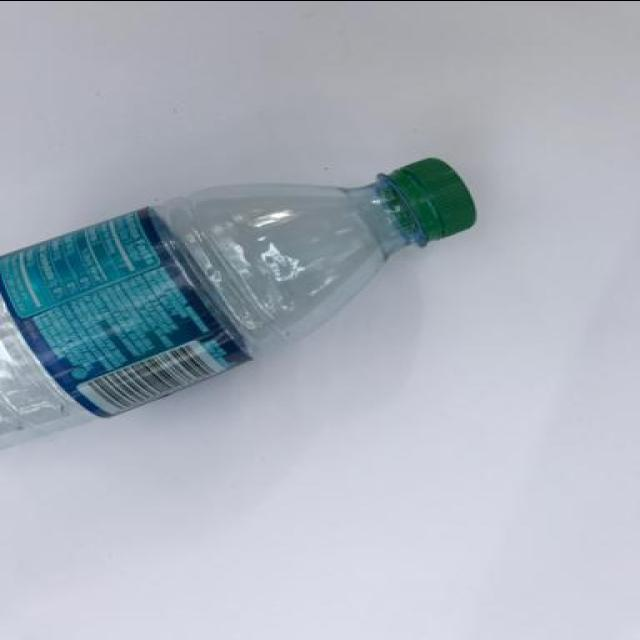litter: (5, 155, 483, 453)
